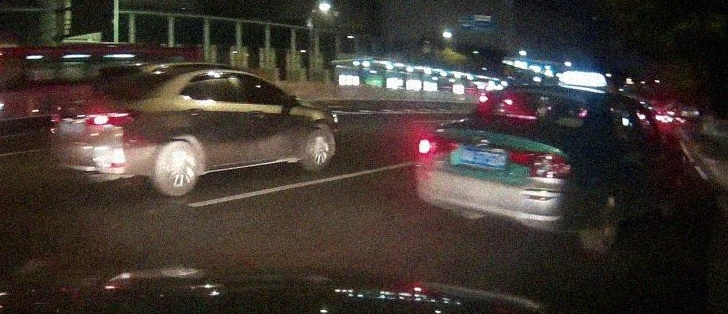L_light: (417, 134, 459, 156), (50, 113, 61, 123)
R_light: (508, 149, 574, 177), (86, 108, 141, 126)
T_light: (504, 111, 539, 121), (108, 73, 127, 78)
night-left: (415, 84, 599, 252)
night-no: (50, 65, 179, 188)
